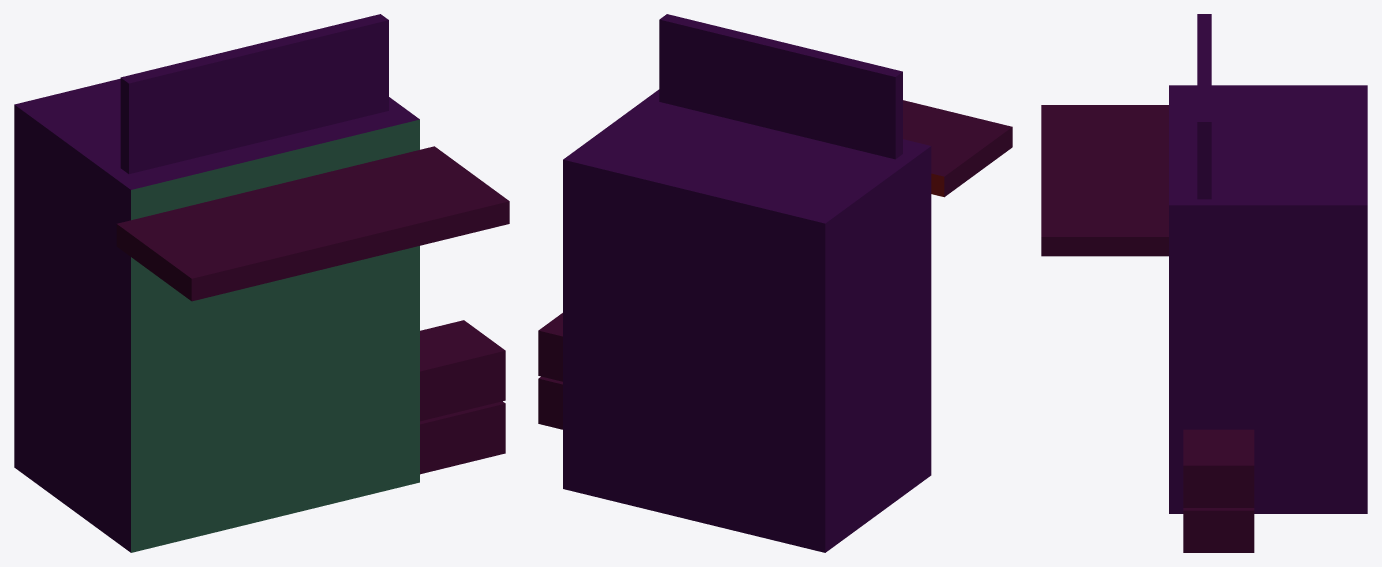
File: kiosk_b.glb
The picture shows the model from 3 angles, left to right: view 1: azimuth 30°, elevation 25°; view 2: azimuth 150°, elevation 25°; view 3: azimuth 270°, elevation 25°; orthographic projection. The views are drawn at different scales.
Parts seen in each view (by area): view 1: kiosk_b; view 2: kiosk_b; view 3: kiosk_b.
Boxes of the visible parts, x1,y1,x2,y2 form: kiosk_b: (14, 14, 509, 552); kiosk_b: (538, 14, 1012, 552); kiosk_b: (1041, 14, 1367, 552).
Size of the model in its own units: 2.75 by 3 by 2.3.
